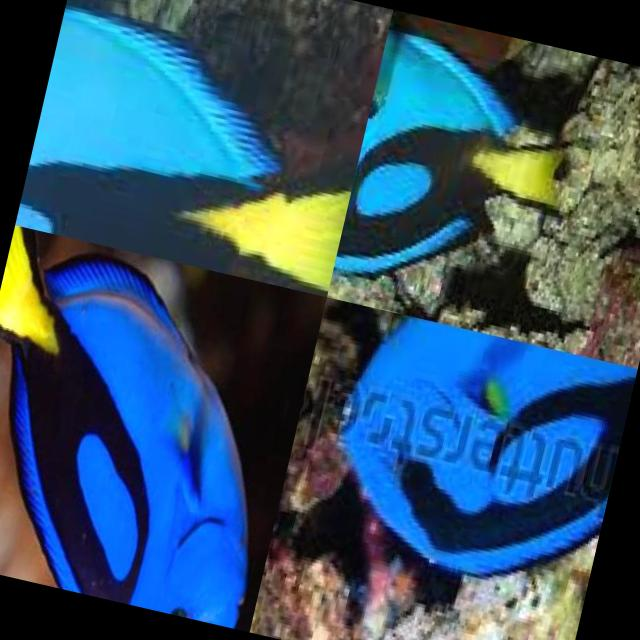BlueTang: (0, 223, 325, 631), (13, 0, 375, 295), (312, 304, 638, 596), (332, 9, 602, 318)
